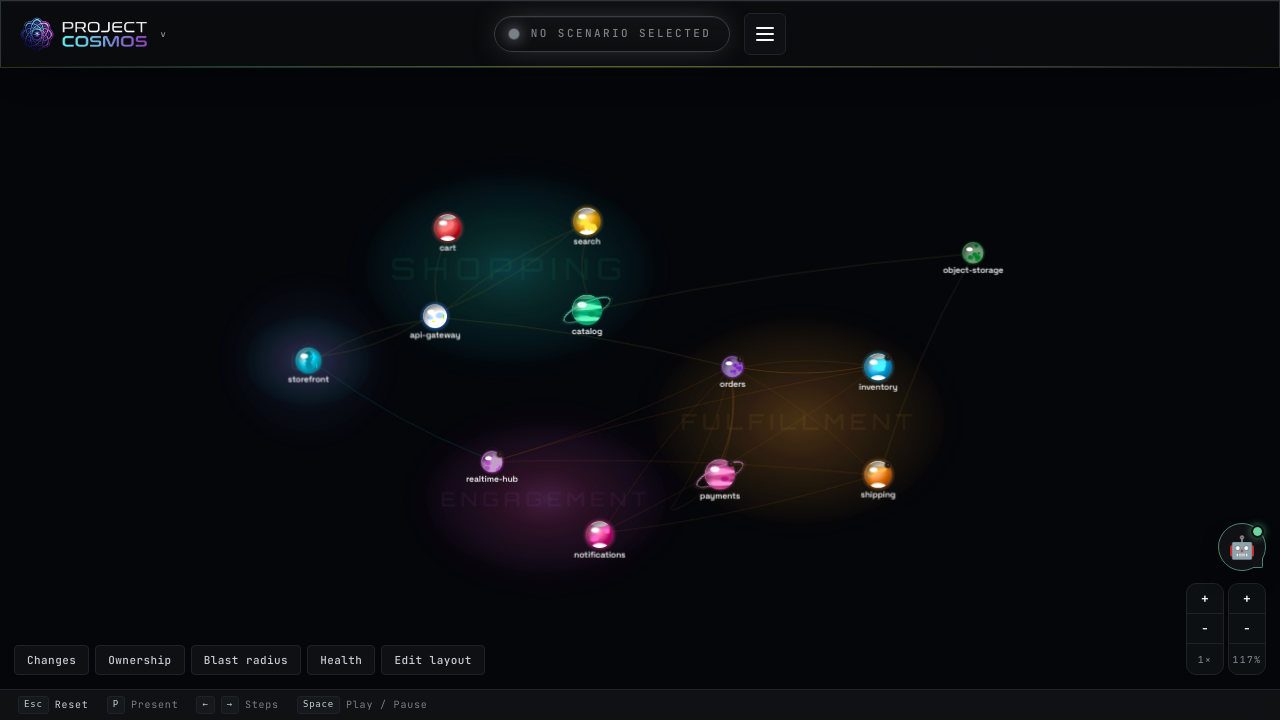
Test: Ask map actions › on a phone, each action opens its surface above the answer — one panel at a time › showOwnership opens the ownership view
This screenshot has width=1280, height=720.
Click the button named "Open the agent chat".
click(1242, 547)  # box [1218,523,1266,571]
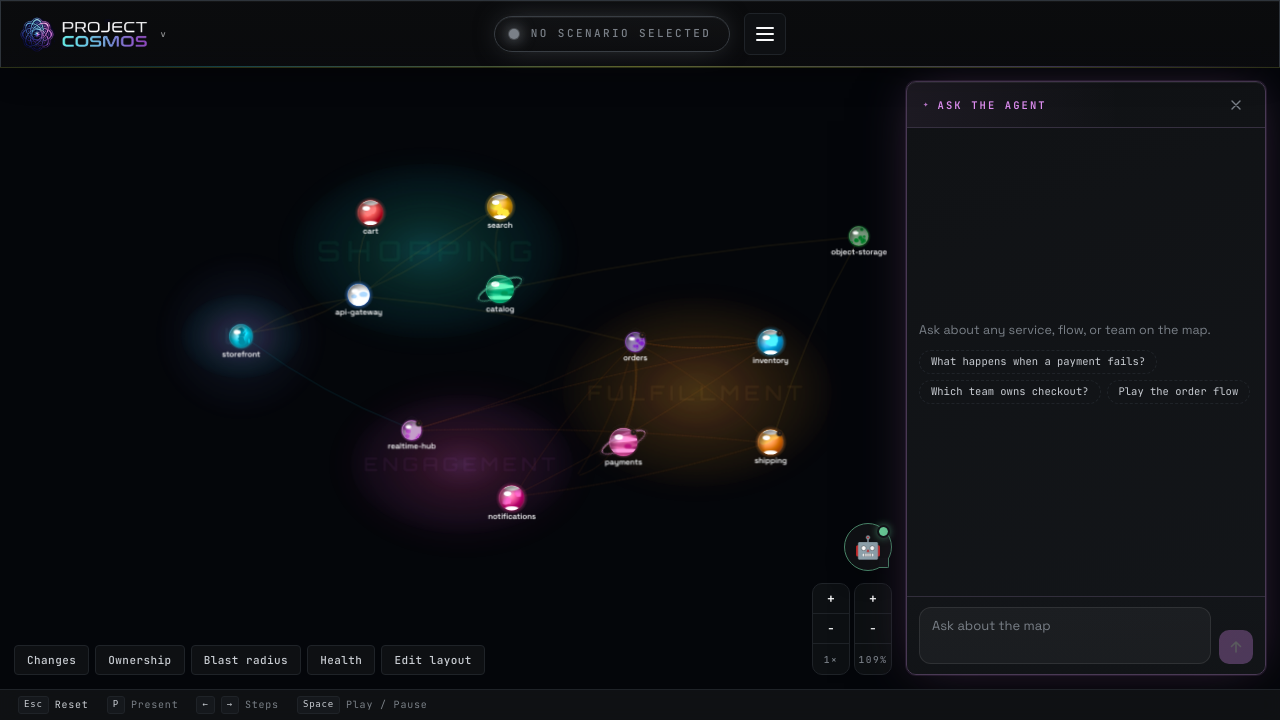
Type "Show me" into the text box named "Your question".
click(1065, 636); type("Show me")  # box [919,607,1211,664]
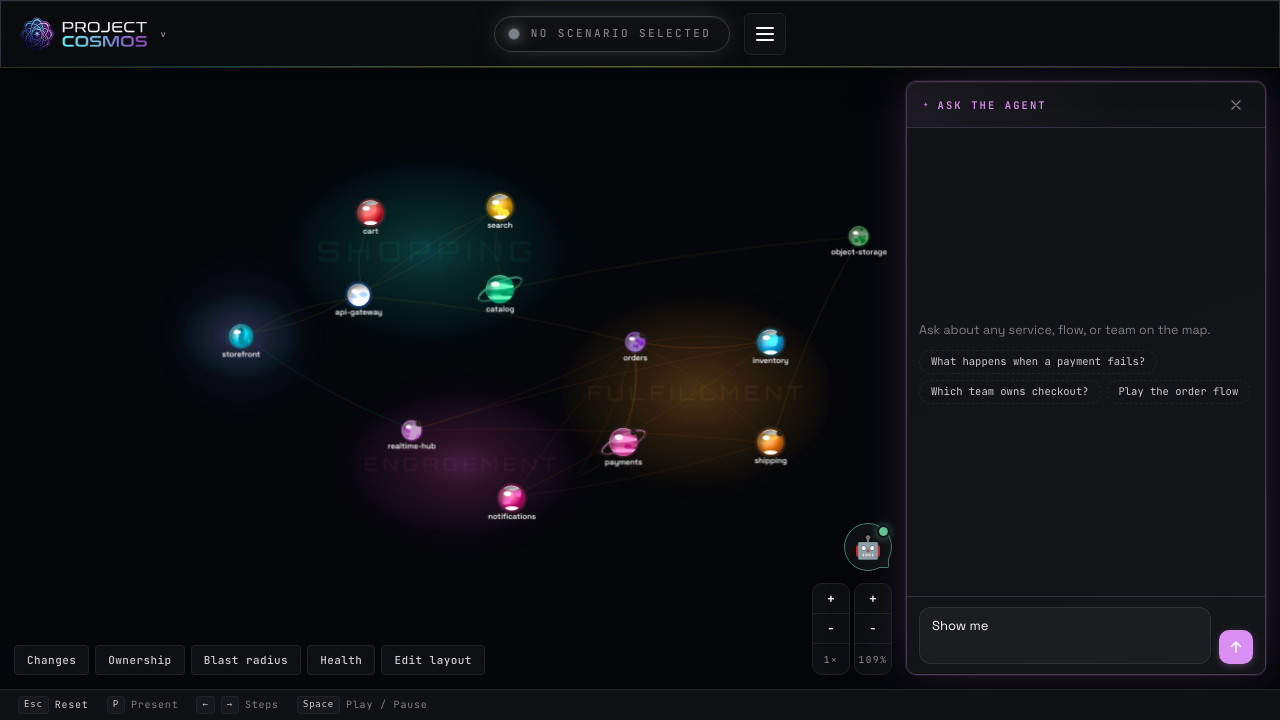
Press Enter in the text box named "Your question", box [919,607,1211,664]
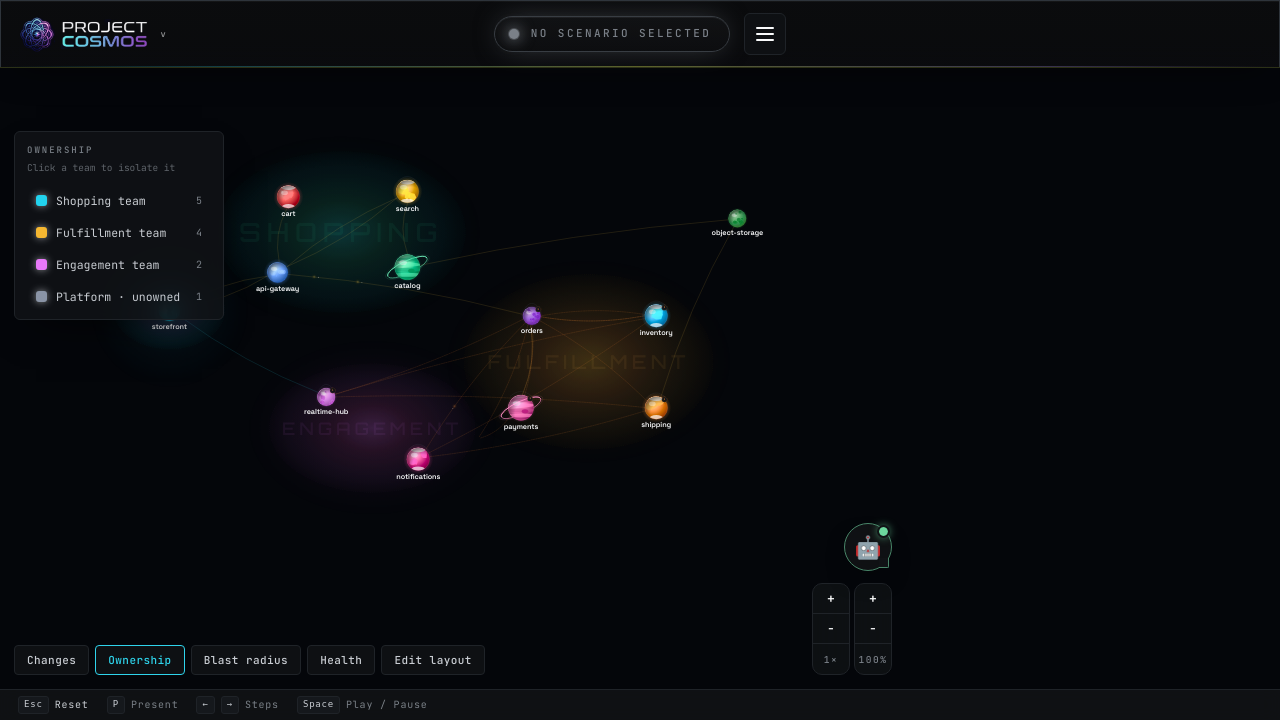
Result: the number of buttons with class "lc-owner-legend-item" is 4 at [27,186,211,215]; [27,218,211,247]; [27,250,211,279]; [27,282,211,311]
